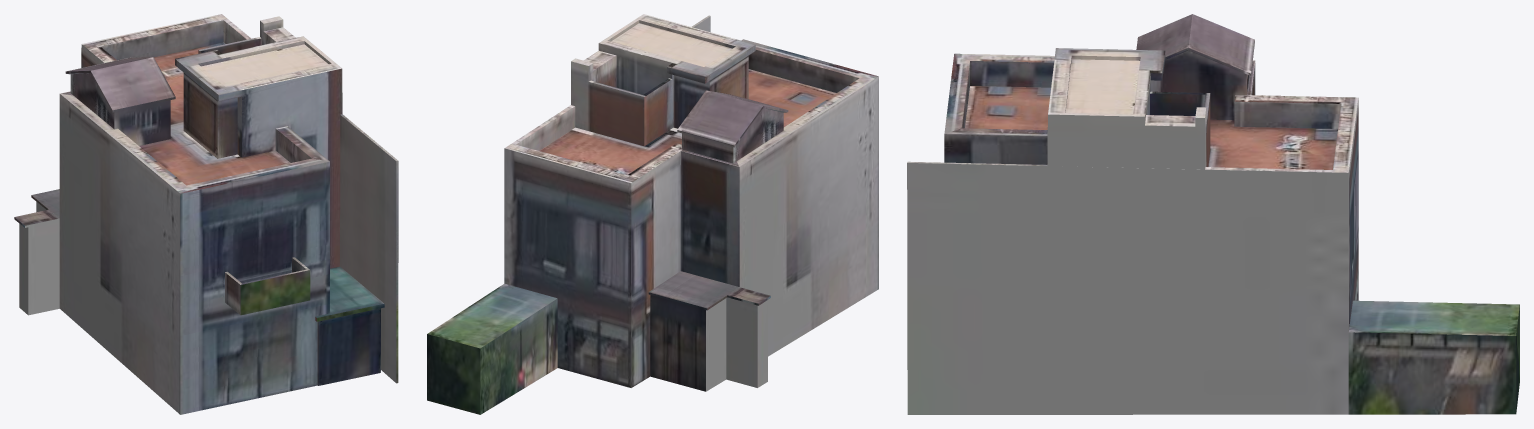
3 renders of one model, left to right at view 1: azimuth 30°, elevation 25°; view 2: azimuth 150°, elevation 25°; view 3: azimuth 270°, elevation 25°, orthographic. The views are drawn at different scales.
Visible parts, largest first — view 1: B285584030101062A0; view 2: B285584030101062A0; view 3: B285584030101062A0.
Boxes of the visible parts, <box> form: B285584030101062A0: <box>14,14,398,414</box>; B285584030101062A0: <box>427,14,878,414</box>; B285584030101062A0: <box>907,14,1519,414</box>.
Size of the model in its own units: 10.69 by 11.23 by 20.53.
Materials: 1 (1 with a texture image).
